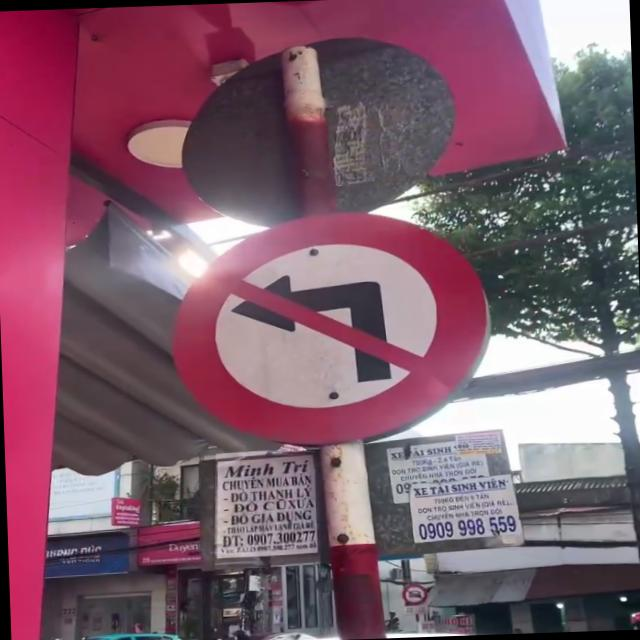Cam_Re_Trai: (165, 205, 495, 449)
